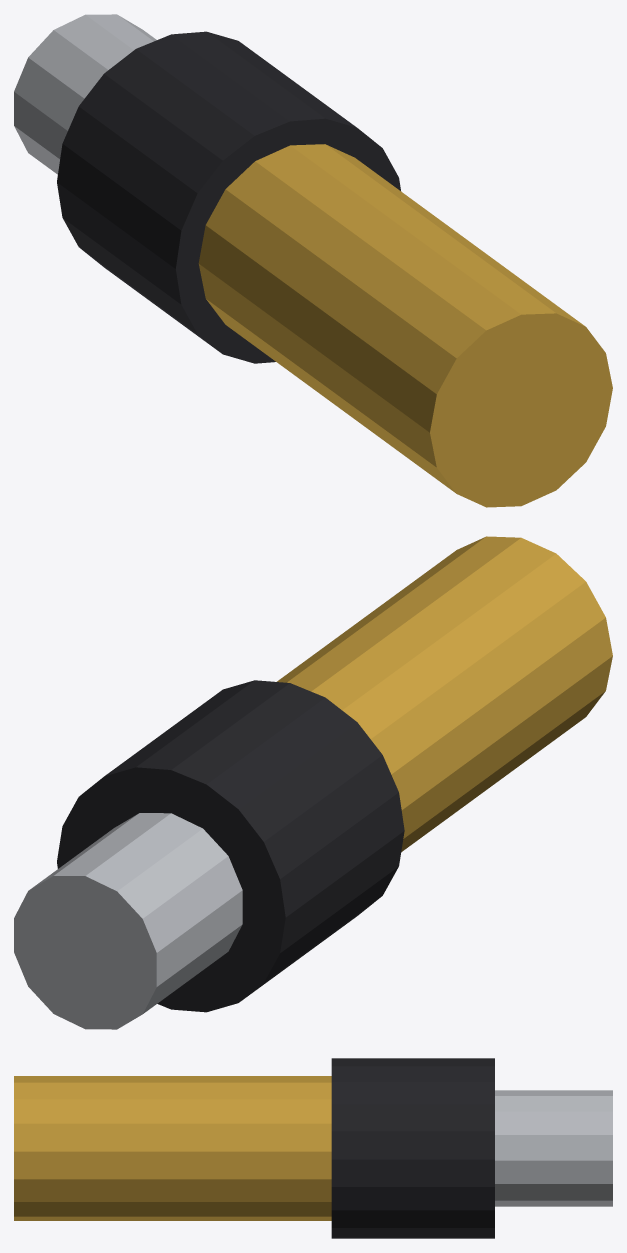
Rendered from tool_holder.glb.
3 renders of one model, top to bottom at view 1: azimuth 30°, elevation 25°; view 2: azimuth 150°, elevation 25°; view 3: azimuth 270°, elevation 25°, orthographic. The views are drawn at different scales.
Parts seen in each view (by area): view 1: tool__tool_gold, tool__holder, tool__steel; view 2: tool__holder, tool__tool_gold, tool__steel; view 3: tool__tool_gold, tool__holder, tool__steel.
Part boxes in pixels (x1,y1,x2,y2): tool__tool_gold: [198, 144, 612, 507]; tool__holder: [57, 31, 400, 363]; tool__steel: [14, 14, 156, 174]; tool__holder: [57, 680, 404, 1012]; tool__tool_gold: [277, 536, 612, 851]; tool__steel: [14, 813, 242, 1029]; tool__tool_gold: [14, 1076, 331, 1220]; tool__holder: [331, 1058, 494, 1238]; tool__steel: [495, 1090, 612, 1206].
Bounding box in the file's own units: 0.1 × 0.1 × 0.33.
